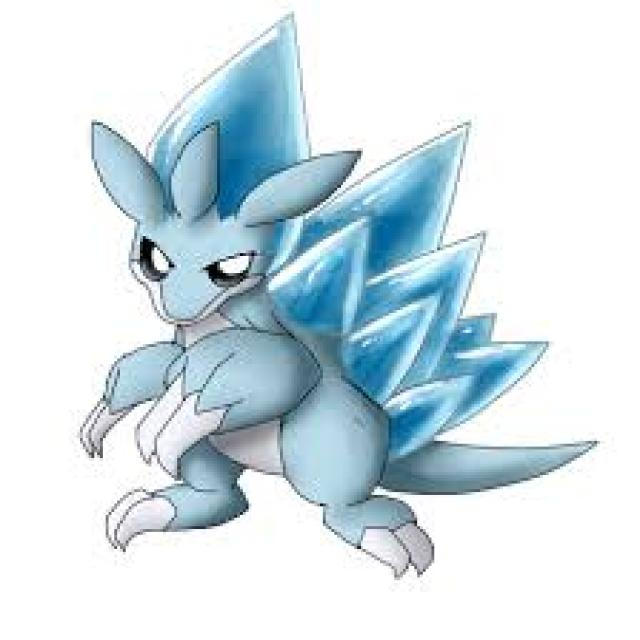Alolan: (92, 99, 510, 576)
